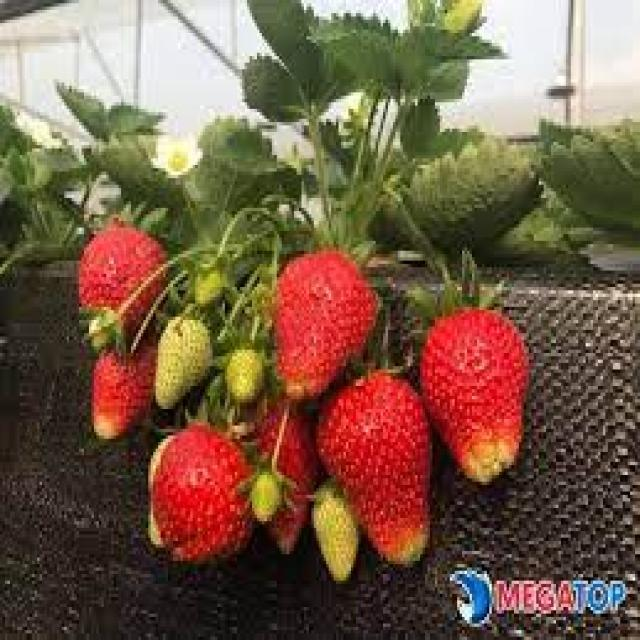Fruta sana: (322, 364, 432, 574), (426, 297, 536, 483), (266, 253, 376, 399), (153, 427, 250, 573), (84, 214, 164, 356), (253, 390, 310, 550), (72, 336, 154, 439)
